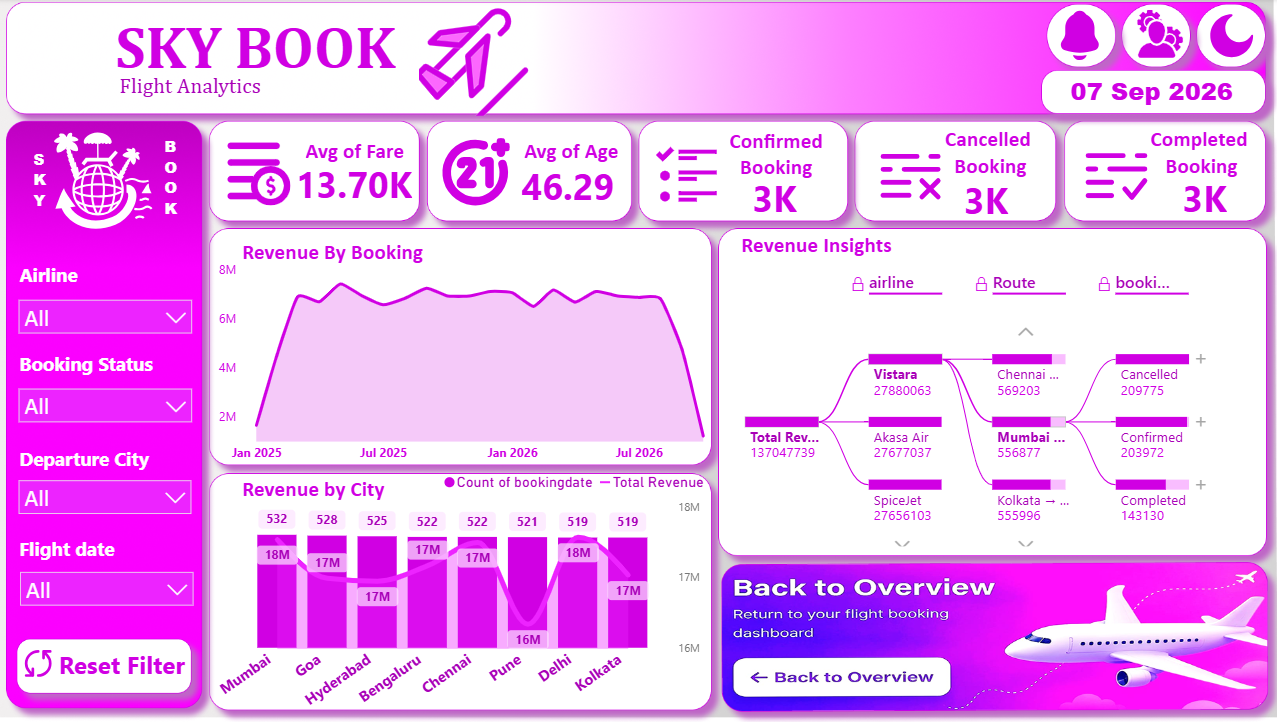

Layout of this report page (visuals, bound fields, positions):
{"tool":"powerbi","page":{"name":"Flight Insights","canvas":[1280,720],"ordinal":1},"visuals":[{"type":"image","box":[0,0,1278.2,720],"z":0},{"type":"cardVisual","fields":{"Data":["customer_db_.Average Fare"]},"box":[278.4,147.3,167.6,66.2],"z":3000},{"type":"cardVisual","fields":{"Data":["customer_db_.Cancelled Bookings"]},"box":[943.2,158.1,127,74.3],"z":4000},{"type":"cardVisual","fields":{"Data":["customer_db_.Confirmed Bookings"]},"box":[732.4,156.8,181.1,74.3],"z":5000},{"type":"cardVisual","fields":{"Data":["customer_db_.Average Age"]},"box":[502.7,143.2,174.3,77],"z":6000},{"type":"cardVisual","fields":{"Data":["customer_db_.Completed Flights"]},"box":[1160.8,156.8,118.9,74.3],"z":7000},{"type":"actionButton","box":[17.9,635.7,185.7,67.9],"z":13000},{"type":"image","box":[393.2,0,167.1,121.9],"z":14000},{"type":"textbox","box":[113.7,8.2,305.5,113.7],"z":18000},{"type":"actionButton","box":[732.6,660,243.2,42.1],"z":25000},{"type":"textbox","box":[302.7,133.8,143.2,41.9],"z":26000},{"type":"textbox","box":[886.5,121.6,205.4,78.4],"z":27000},{"type":"textbox","box":[677,123,197.3,66.2],"z":28000},{"type":"textbox","box":[1113.5,121.6,166.2,75.7],"z":29000},{"type":"textbox","box":[520.3,133.8,156.8,41.9],"z":30000},{"type":"image","box":[205.5,138.2,110.9,72.7],"z":31000},{"type":"image","box":[1070.9,121.8,89.1,109.1],"z":32000},{"type":"image","box":[845.5,132.7,130.9,87.3],"z":33000},{"type":"image","box":[640.5,140.5,91.9,70.3],"z":34000},{"type":"image","box":[429.1,134.5,94.5,78.2],"z":35000},{"type":"textbox","box":[239.2,233.8,218.9,43.2],"z":36000},{"type":"textbox","box":[735.3,226.5,242.6,39.7],"z":37000},{"type":"textbox","box":[239.2,470.3,201.4,43.2],"z":38000},{"type":"cardVisual","fields":{"Data":["Min(customer_db_.Today's Date)"]},"box":[1051.6,48.4,214.1,78.1],"z":44000},{"type":"image","box":[1031.6,0,100,69.6],"z":45000},{"type":"image","box":[1114.8,6.2,87.7,58],"z":46000},{"type":"image","box":[1187.7,6.2,90.1,59.3],"z":47000},{"type":"textbox","box":[118,68,174,76],"z":48000},{"type":"image","box":[41.3,126.3,131.7,108.4],"z":49000},{"type":"textbox","box":[32.1,145.3,40.6,74.8],"z":50000},{"type":"textbox","box":[163,131.8,40.9,113.6],"z":51000},{"type":"textbox","box":[20.6,254.3,134,43],"z":52000},{"type":"slicer","fields":{"Values":["customer_db_.airline"]},"box":[12.8,282.1,192.4,68.4],"z":53000},{"type":"textbox","box":[17.2,350.6,170.1,41.2],"z":54000},{"type":"slicer","fields":{"Values":["customer_db_.bookingstatus"]},"box":[12.8,378.3,192.4,68.4],"z":55000},{"type":"textbox","box":[18.9,434.8,173.6,41.2],"z":56000},{"type":"slicer","fields":{"Values":["customer_db_.departurecity"]},"box":[12.8,470.2,192.4,68.4],"z":57000},{"type":"textbox","box":[18.9,529.3,132.3,41.2],"z":58000},{"type":"slicer","fields":{"Values":["customer_db_.flightdate"]},"box":[12.8,557.8,192.4,66.3],"z":59000},{"type":"textbox","box":[55.4,650,160.7,53.6],"z":60000},{"type":"image","box":[21.4,648.2,42.9,44.6],"z":61000},{"type":"lineClusteredColumnComboChart","title":"Financial Chart","fields":{"Y2":["customer_db_.Total Revenue"],"Y":["Count(customer_db_.bookingdate)"],"Category":["customer_db_.departurecity"]},"box":[210.4,466.2,509.7,253.9],"z":62000},{"type":"lineChart","fields":{"Y":["customer_db_.Total Revenue"],"Category":["customer_db_.flightdate.Variation.Date Hierarchy.Year","customer_db_.flightdate.Variation.Date Hierarchy.Month"]},"box":[216.2,263.5,516.2,213.5],"z":63000},{"type":"decompositionTreeVisual","fields":{"Analyze":["customer_db_.Total Revenue"],"ExplainBy":["customer_db_.airline","customer_db_.Route","customer_db_.bookingstatus","customer_db_.arrivalcity","customer_db_.departurecity"]},"box":[719,267,547,292],"z":64000}]}

Visuals, with their boxes in screenshot pixels (x1, y1, x2, y2), scaled from the page's 1280x720 canvas onto the 1277x722 screenshot:
image: box(0, 0, 1275, 721)
cardVisual - customer_db_.Average Fare: box(278, 148, 445, 214)
cardVisual - customer_db_.Cancelled Bookings: box(941, 159, 1068, 233)
cardVisual - customer_db_.Confirmed Bookings: box(731, 157, 911, 232)
cardVisual - customer_db_.Average Age: box(502, 144, 675, 221)
cardVisual - customer_db_.Completed Flights: box(1158, 157, 1276, 232)
actionButton: box(18, 637, 203, 706)
image: box(392, 0, 559, 122)
textbox: box(113, 8, 418, 122)
actionButton: box(731, 662, 974, 704)
textbox: box(302, 134, 445, 176)
textbox: box(884, 122, 1089, 201)
textbox: box(675, 123, 872, 190)
textbox: box(1111, 122, 1276, 198)
textbox: box(519, 134, 676, 176)
image: box(205, 139, 316, 211)
image: box(1068, 122, 1157, 232)
image: box(844, 133, 974, 221)
image: box(639, 141, 731, 211)
image: box(428, 135, 522, 213)
textbox: box(239, 234, 457, 278)
textbox: box(734, 227, 976, 267)
textbox: box(239, 472, 440, 515)
cardVisual - Min(customer_db_.Today's Date): box(1049, 49, 1263, 127)
image: box(1029, 0, 1129, 70)
image: box(1112, 6, 1200, 64)
image: box(1185, 6, 1275, 66)
textbox: box(118, 68, 291, 144)
image: box(41, 127, 173, 235)
textbox: box(32, 146, 73, 221)
textbox: box(163, 132, 203, 246)
textbox: box(21, 255, 154, 298)
slicer - customer_db_.airline: box(13, 283, 205, 351)
textbox: box(17, 352, 187, 393)
slicer - customer_db_.bookingstatus: box(13, 379, 205, 448)
textbox: box(19, 436, 192, 477)
slicer - customer_db_.departurecity: box(13, 472, 205, 540)
textbox: box(19, 531, 151, 572)
slicer - customer_db_.flightdate: box(13, 559, 205, 626)
textbox: box(55, 652, 216, 706)
image: box(21, 650, 64, 695)
"Financial Chart" lineClusteredColumnComboChart: box(210, 467, 718, 721)
lineChart - customer_db_.Total Revenue x customer_db_.flightdate.Variation.Date Hierarchy.Year: box(216, 264, 731, 478)
decompositionTreeVisual - customer_db_.Total Revenue x customer_db_.airline: box(717, 268, 1263, 561)
